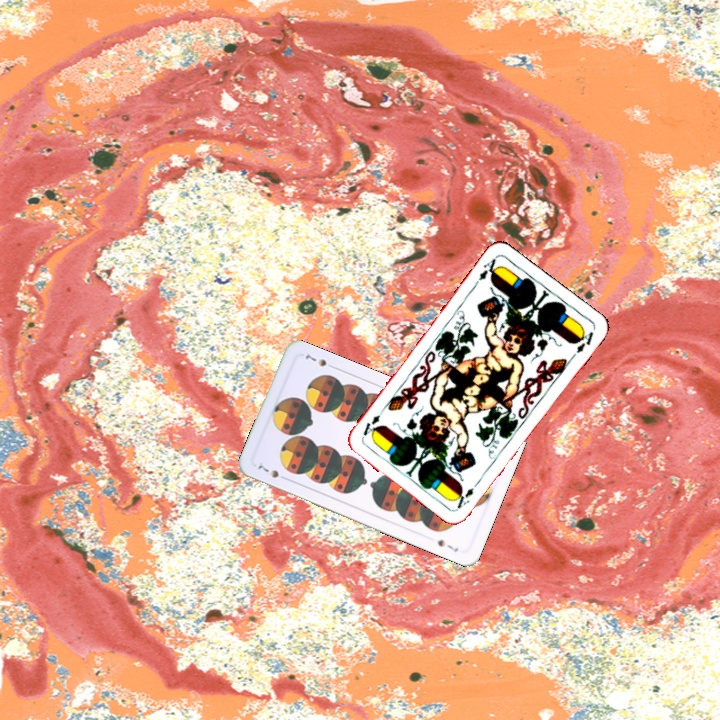EA: (470, 253, 502, 289), (453, 483, 476, 511)
S7: (254, 461, 290, 483)
